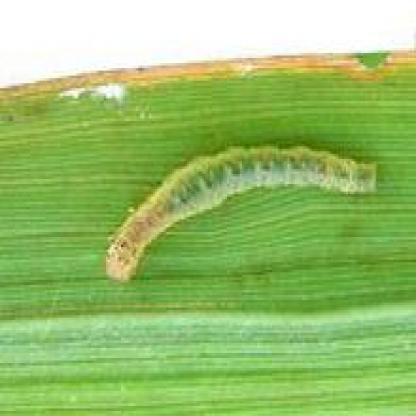leaf-folder: (105, 133, 378, 289)
